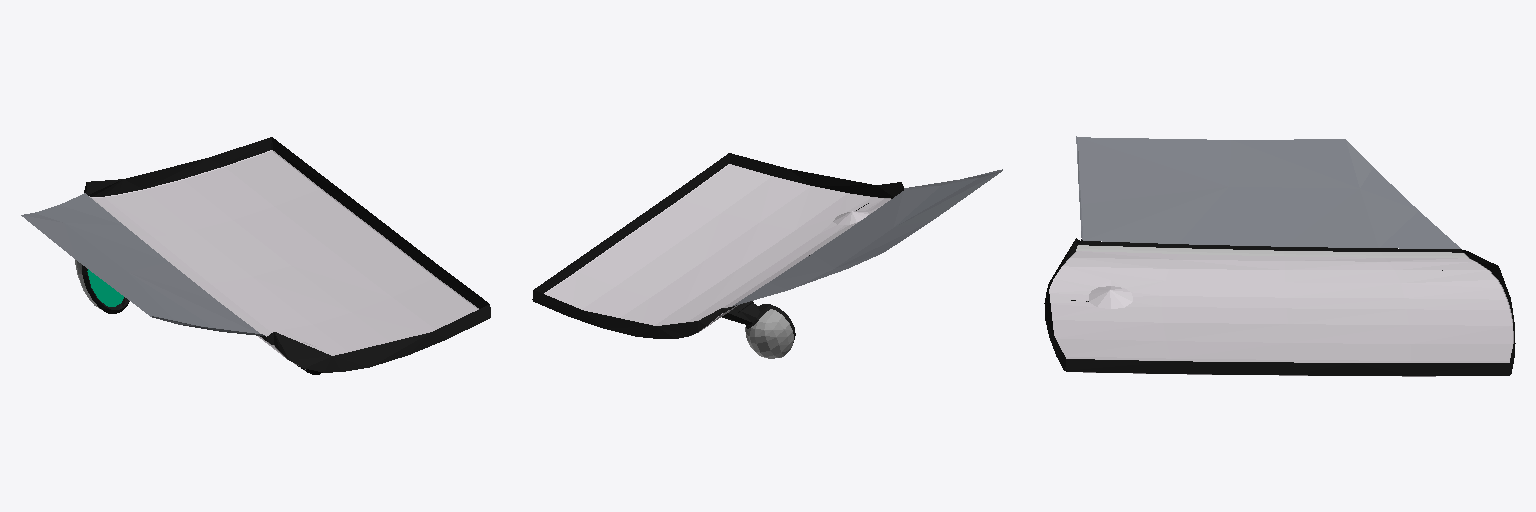
URDF robot description (car):
<?xml version="1.0" ?>
<robot name="car">
	<link name="base"/>
	<link name="link_0">
		<visual name="out-frame">
			<origin xyz="0 0 0"/>
			<geometry>
				<mesh filename="texture_dae/car-board.dae" scale="0.9405108563126225 0.9405108563126225 0.9405108563126225"/>
			</geometry>
		</visual>
		<collision>
			<origin xyz="0 0 0"/>
			<geometry>
				<mesh filename="texture_dae/car-board.dae" scale="0.9405108563126225 0.9405108563126225 0.9405108563126225"/>
			</geometry>
		</collision>
	</link>
	<joint name="joint_0" type="fixed">
		<origin rpy="1.570796326794897 0 -1.570796326794897" xyz="0 0 0"/>
		<child link="link_0"/>
		<parent link="base"/>
	</joint>
	<link name="link_1">
		<visual name="surf-board">
			<origin xyz="1.0158956618197454 -0.4934690045084628 0"/>
			<geometry>
				<mesh filename="texture_dae/car-door.dae" scale="0.9405108563126225 0.9405108563126225 0.9405108563126225"/>
			</geometry>
		</visual>
		<collision>
			<origin xyz="1.0158956618197454 -0.4934690045084628 0"/>
			<geometry>
				<mesh filename="texture_dae/car-door.dae" scale="0.9405108563126225 0.9405108563126225 0.9405108563126225"/>
			</geometry>
		</collision>
	</link>
	<joint name="joint_1" type="revolute">
		<origin xyz="-1.0158956618197454 0.4934690045084628 0"/>
		<axis xyz="0 -1 0"/>
		<child link="link_1"/>
		<parent link="link_0"/>
		<limit lower="0" upper="1.5079644737231006"/>
	</joint>
	<link name="link_2">
		<visual name="handle-lock">
			<origin xyz="0 0 0"/>
			<geometry>
				<mesh filename="texture_dae/9968015-lock.dae" scale="0.8077798974207131 0.8077798974207131 0.8077798974207131"/>
			</geometry>
		</visual>
		<collision>
			<origin xyz="0 0 0"/>
			<geometry>
				<mesh filename="texture_dae/9968015-lock.dae" scale="0.8077798974207131 0.8077798974207131 0.8077798974207131"/>
			</geometry>
		</collision>
	</link>
	<joint name="joint_2" type="fixed">
		<origin xyz="1.0058956618197454 -0.4934690045084628 0.005"/>
		<child link="link_2"/>
		<parent link="link_1"/>
	</joint>
	<link name="link_3">
		<visual name="handle">
			<origin xyz="0 0 0"/>
			<geometry>
				<mesh filename="texture_dae/9968015-handle.dae" scale="0.8077798974207131 0.8077798974207131 0.8077798974207131"/>
			</geometry>
		</visual>
		<collision>
			<origin xyz="0 0 0"/>
			<geometry>
				<mesh filename="texture_dae/9968015-handle.dae" scale="0.8077798974207131 0.8077798974207131 0.8077798974207131"/>
			</geometry>
		</collision>
	</link>
	<joint name="joint_3" type="revolute">
		<origin xyz="0 0 0"/>
		<child link="link_3"/>
		<parent link="link_2"/>
		<axis xyz="0 -1 0"/>
		<limit lower="0" upper="0.17453"/>
	</joint>
</robot>

--- Facts derived from the render (not from the file) ---
The picture shows the robot from 3 angles, left to right: view 1: azimuth 30°, elevation 25°; view 2: azimuth 150°, elevation 25°; view 3: azimuth 270°, elevation 25°; orthographic projection.
Robot: car — 5 links, 4 joints (2 revolute, 2 fixed); root link base; default pose: every joint at zero.
Links seen in each view (by area): view 1: link_1; view 2: link_1; view 3: link_1.
Link boxes in pixels (box(x1,y1,x2,y2)): link_1: box(21, 137, 490, 372); link_1: box(532, 153, 1002, 358); link_1: box(1044, 136, 1515, 376).
Size in the robot's own frame: 1.04 by 1.26 by 0.4012 metres.
Meshes: 4 distinct files referenced, 3 mesh visuals loaded (3 Collada DAE); not drawn: 1 (reference not matched to a file when rendering).
